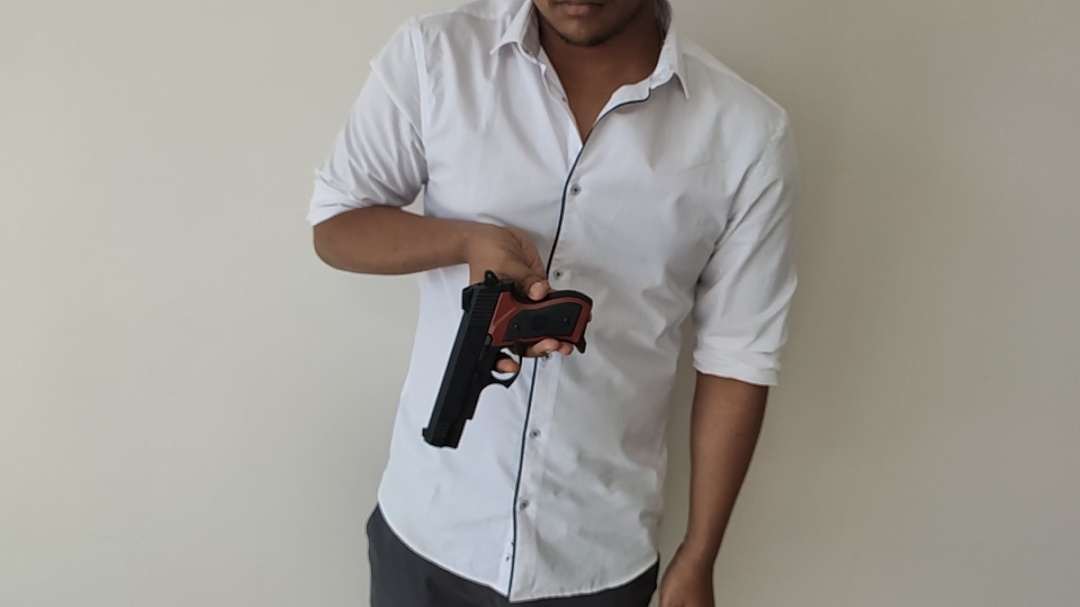gun: (422, 270, 594, 449)
